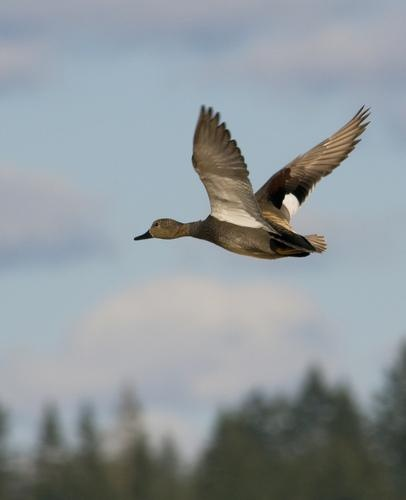bird: (135, 105, 370, 261)
